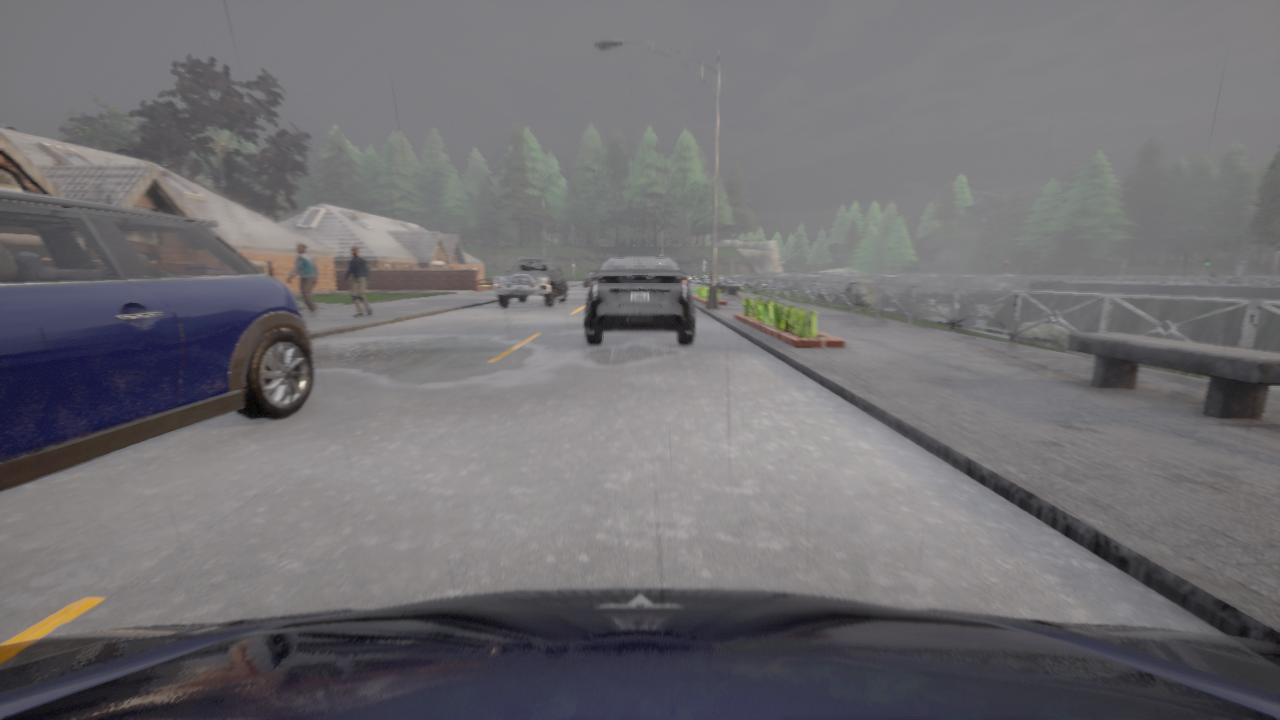cyclist: (0, 588, 1279, 719), (584, 256, 694, 345), (494, 255, 567, 307), (584, 271, 596, 286)
pedestrian: (288, 244, 318, 317), (343, 246, 371, 316)
